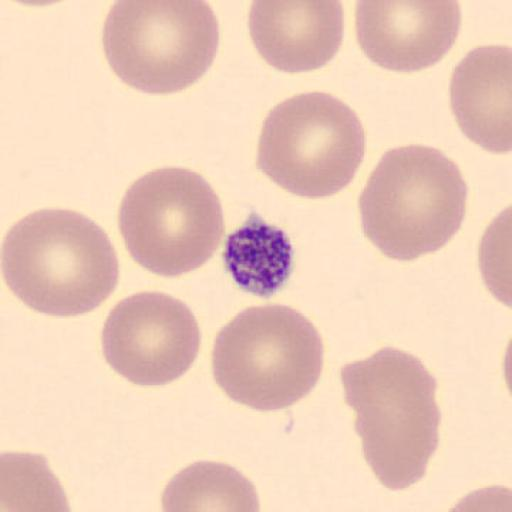Platelet: (220, 216, 298, 300)
RBC: (339, 344, 442, 494), (1, 206, 121, 320), (357, 142, 469, 263), (209, 301, 326, 414), (254, 89, 368, 202), (115, 164, 226, 280), (99, 0, 221, 97), (100, 288, 204, 389), (354, 0, 464, 75), (246, 0, 347, 76), (448, 43, 512, 156), (158, 457, 262, 512), (1, 448, 73, 512), (476, 202, 512, 310), (440, 482, 511, 512), (500, 327, 512, 406), (503, 318, 512, 414), (0, 0, 82, 8)
